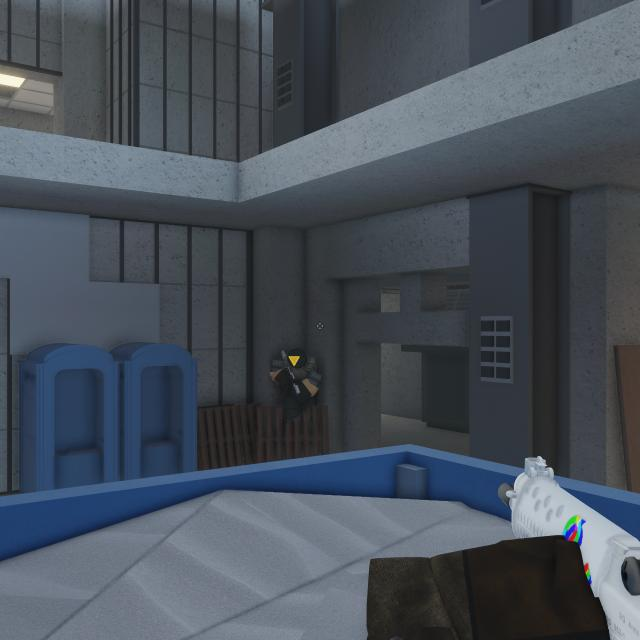Head: (288, 349, 308, 367)
Player: (270, 349, 322, 415)
